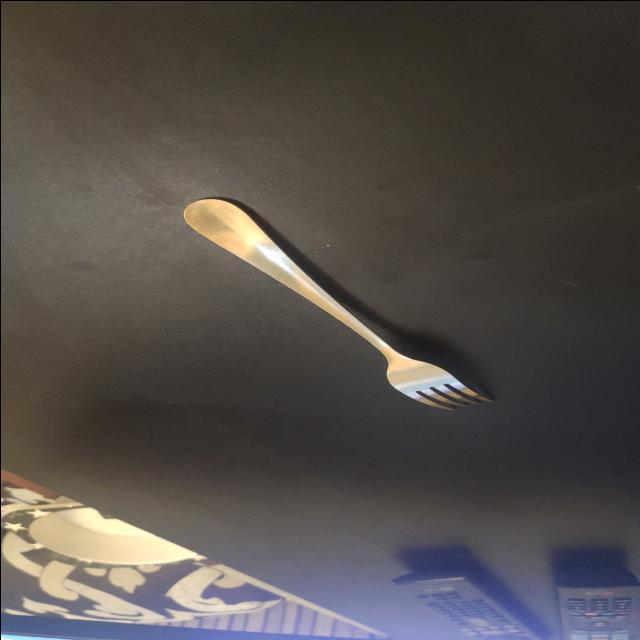plastic utensil: (182, 198, 491, 409)
